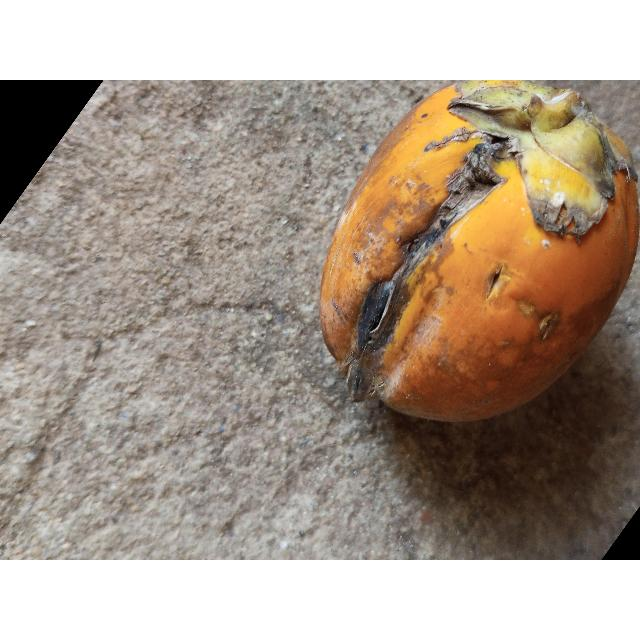damaged: (318, 80, 640, 425)
